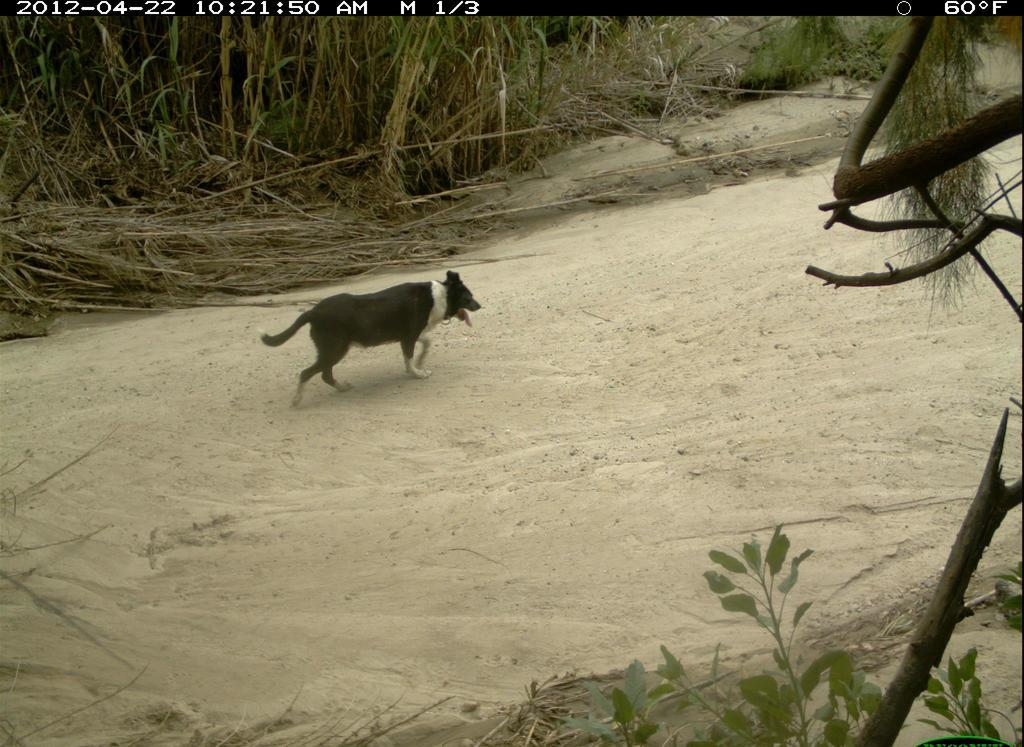dog: (263, 269, 484, 408)
